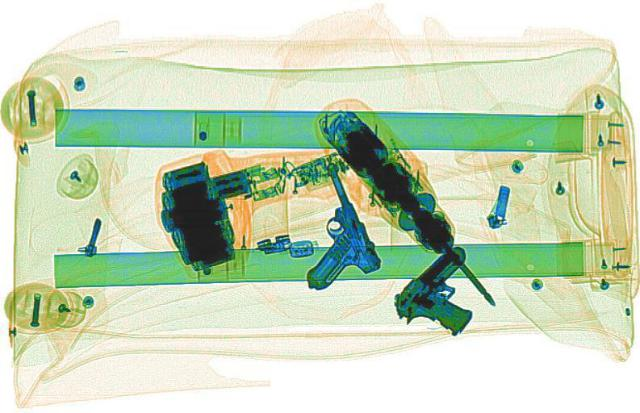Gun: (256, 160, 390, 289), (374, 242, 522, 338)
